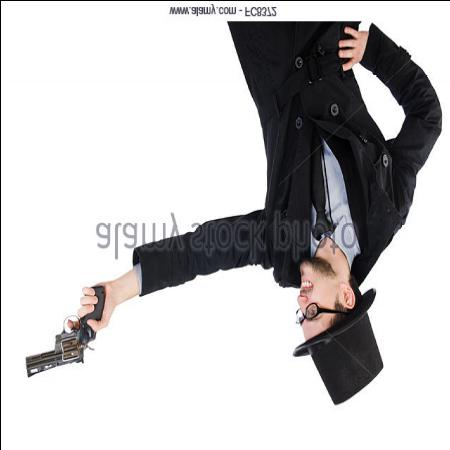Pistol: (23, 284, 105, 383)
